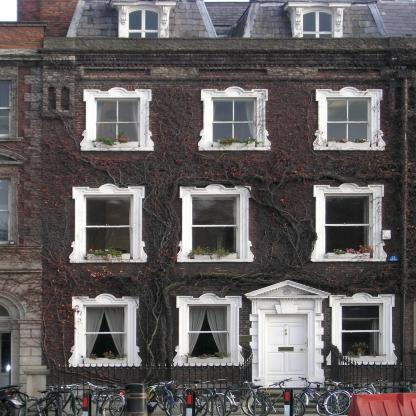Building Outline: (43, 0, 416, 402)
Cornice: (244, 280, 331, 301)
Dont: (37, 376, 416, 402)
Door: (265, 314, 308, 386)
Facade: (43, 0, 416, 402)
Floor: (43, 69, 415, 175), (43, 180, 415, 285)
Floor Slab: (43, 65, 415, 69), (43, 176, 415, 180), (43, 284, 415, 288)
Ground Floor: (43, 288, 415, 402)
Molding: (43, 48, 416, 69)
Roof: (65, 0, 416, 37)
Top Floor: (43, 0, 415, 48)
Window: (84, 196, 133, 259), (324, 195, 372, 258), (191, 196, 238, 259), (84, 306, 126, 364), (341, 304, 383, 362), (188, 306, 230, 364), (212, 99, 256, 144), (95, 99, 139, 144), (326, 99, 369, 144), (127, 9, 160, 37), (302, 10, 334, 38)
